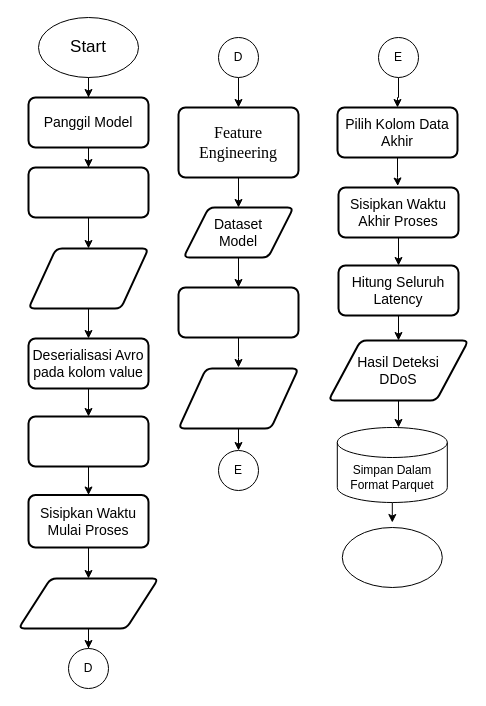
This 486x706 diagram has some shape labels left out. Each missing label, with the centre of its shape:
"Baca Data dari Topik" belongs at point 88,192.
"Data Prediksi Model" belongs at point 238,398.
"Dataset" belongs at point 88,278.
"Dataset Awal Proses" belongs at point 88,603.
"Ekstraksi Kolom hasil deserialisasi" belongs at point 88,441.
"End" belongs at point 391,557.
"Prediksi Model" belongs at point 238,312.
